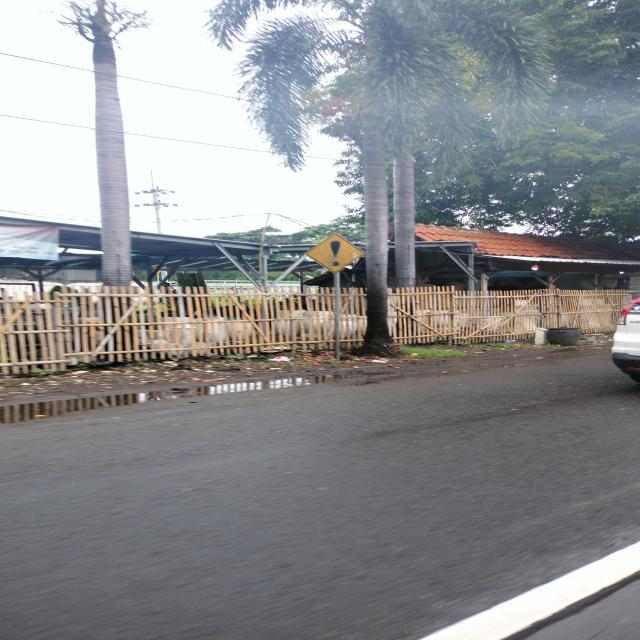Hati-Hati: (304, 234, 366, 274)
